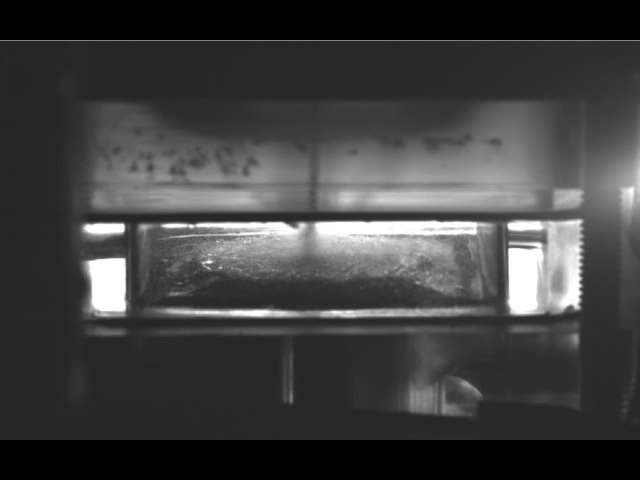Zona de teste: (197, 232, 422, 284)
